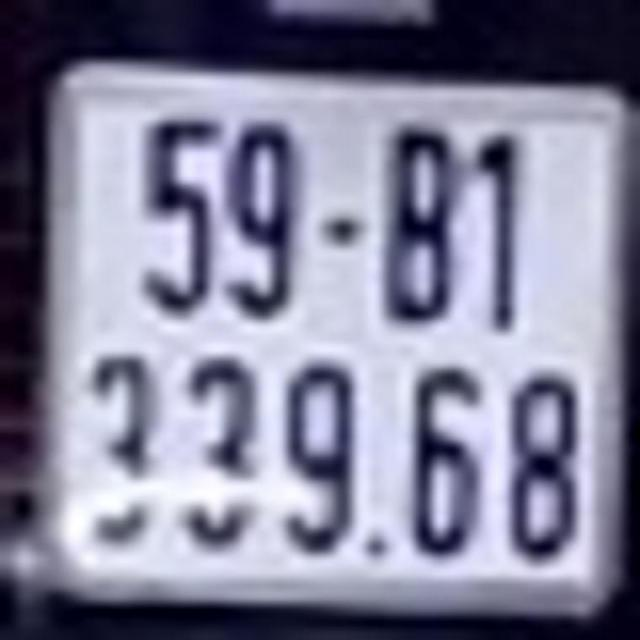1: (473, 125, 522, 338)
3: (180, 348, 258, 551), (81, 344, 159, 542)
5: (145, 114, 215, 317)
6: (400, 361, 486, 553)
8: (507, 354, 584, 572)
9: (280, 352, 356, 558), (224, 110, 299, 316)
B: (387, 131, 457, 320)
